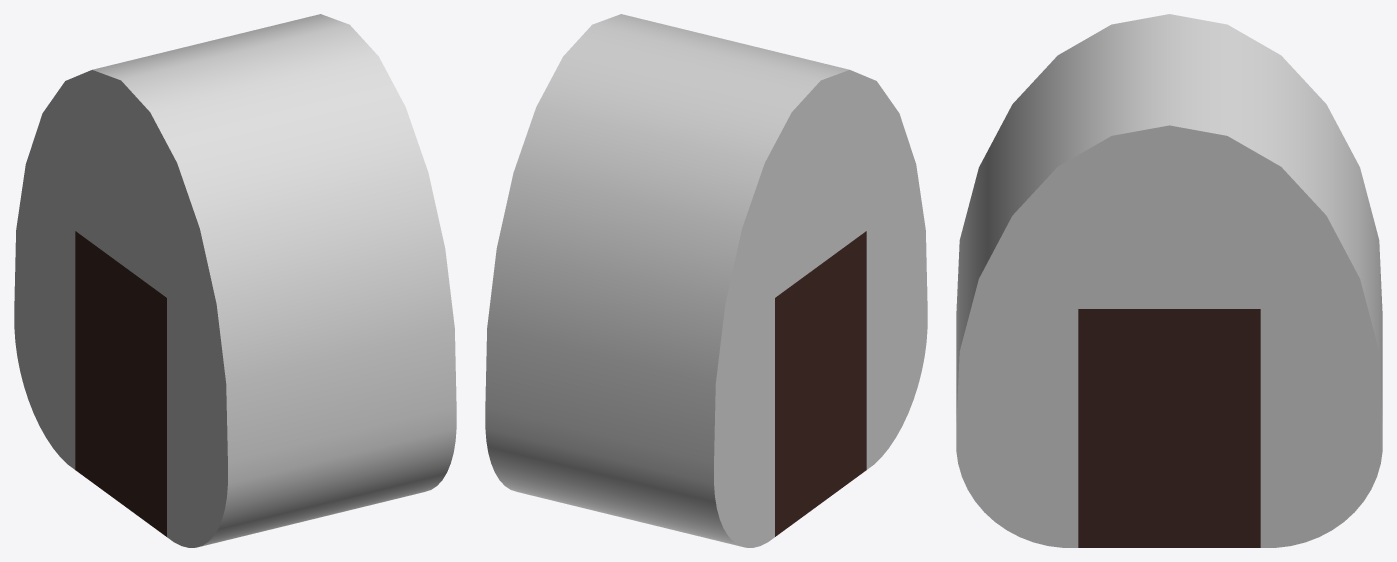
The model's file is riceBall.GLB.
3 views of the same model, side by side, from view 1: azimuth 30°, elevation 25°; view 2: azimuth 150°, elevation 25°; view 3: azimuth 270°, elevation 25° (orthographic).
Visible parts, largest first — view 1: riceBall; view 2: riceBall; view 3: riceBall.
Part boxes in pixels (left/top/right/bottom): riceBall: left=14, top=14, right=456, bottom=547; riceBall: left=485, top=14, right=927, bottom=547; riceBall: left=956, top=14, right=1382, bottom=547.
Bounding box in the file's own units: 0.0712 × 0.1259 × 0.1152.
